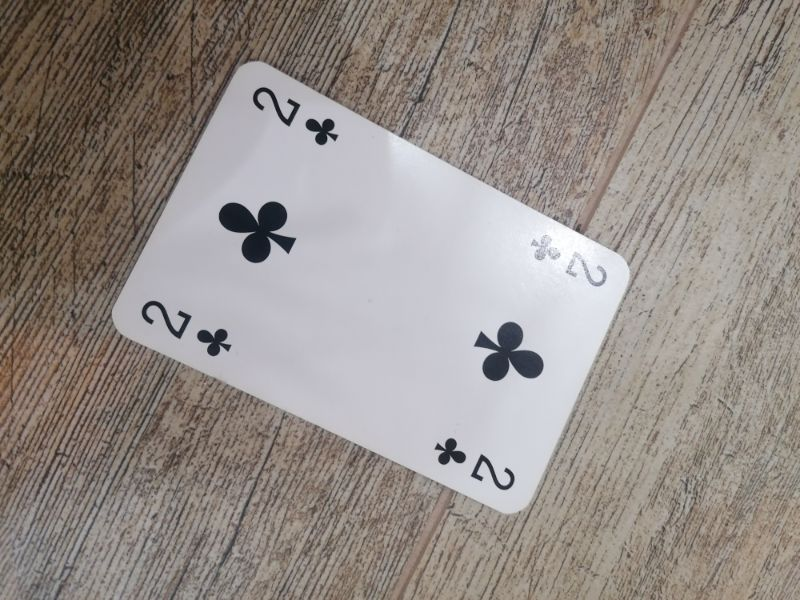2c: (248, 83, 344, 147), (428, 434, 523, 497), (138, 298, 235, 359), (524, 229, 609, 293)
